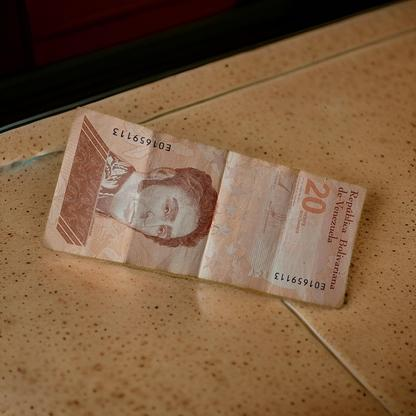twenty-front-vef: (105, 47, 309, 374)
